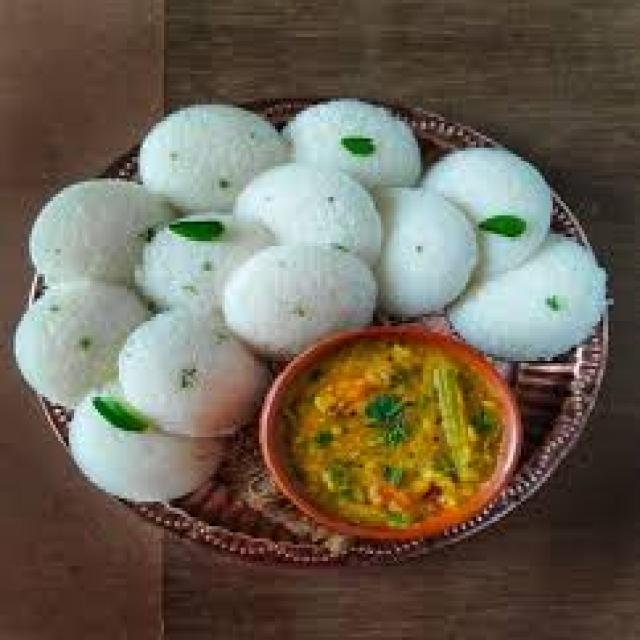IDLI: (447, 234, 606, 357), (119, 311, 262, 434), (225, 243, 376, 357), (420, 148, 550, 277), (13, 283, 148, 406), (69, 397, 222, 502), (140, 105, 288, 209), (29, 178, 169, 283), (235, 163, 378, 262), (381, 191, 476, 311), (283, 102, 420, 185), (135, 215, 233, 308)
